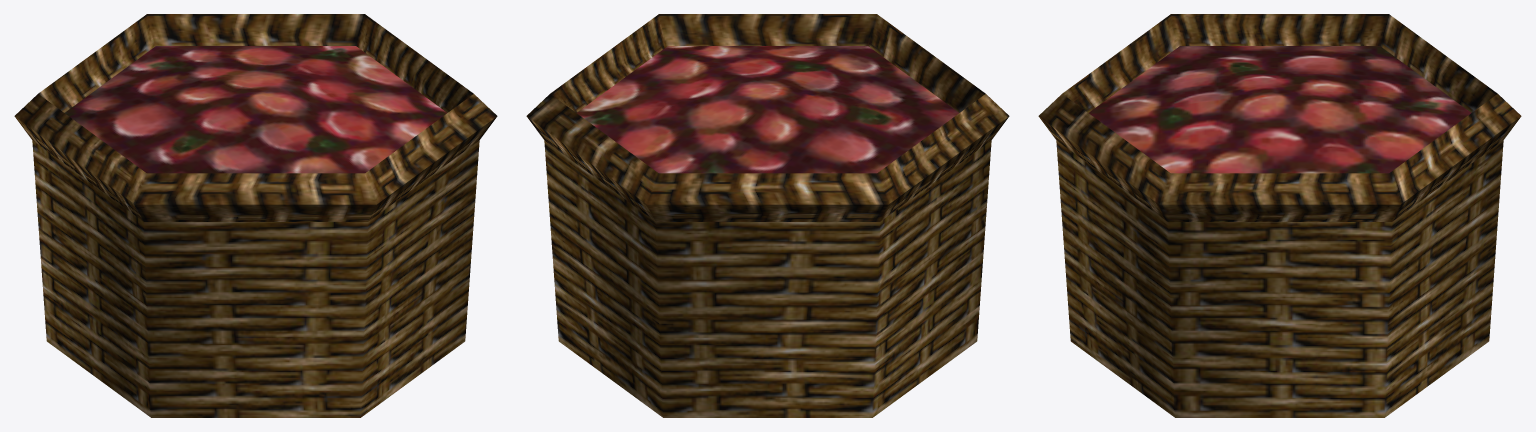
The model's file is Basket02.fbx.
3 views of the same model, side by side, from view 1: azimuth 30°, elevation 25°; view 2: azimuth 150°, elevation 25°; view 3: azimuth 270°, elevation 25° (orthographic).
Parts seen in each view (by area): view 1: basket02; view 2: basket02; view 3: basket02.
Boxes of the visible parts, x1,y1,x2,y2 form: basket02: [14, 14, 497, 417]; basket02: [526, 14, 1009, 417]; basket02: [1038, 14, 1521, 417].
Bounding box in the file's own units: 1.87 × 1.22 × 2.16.
